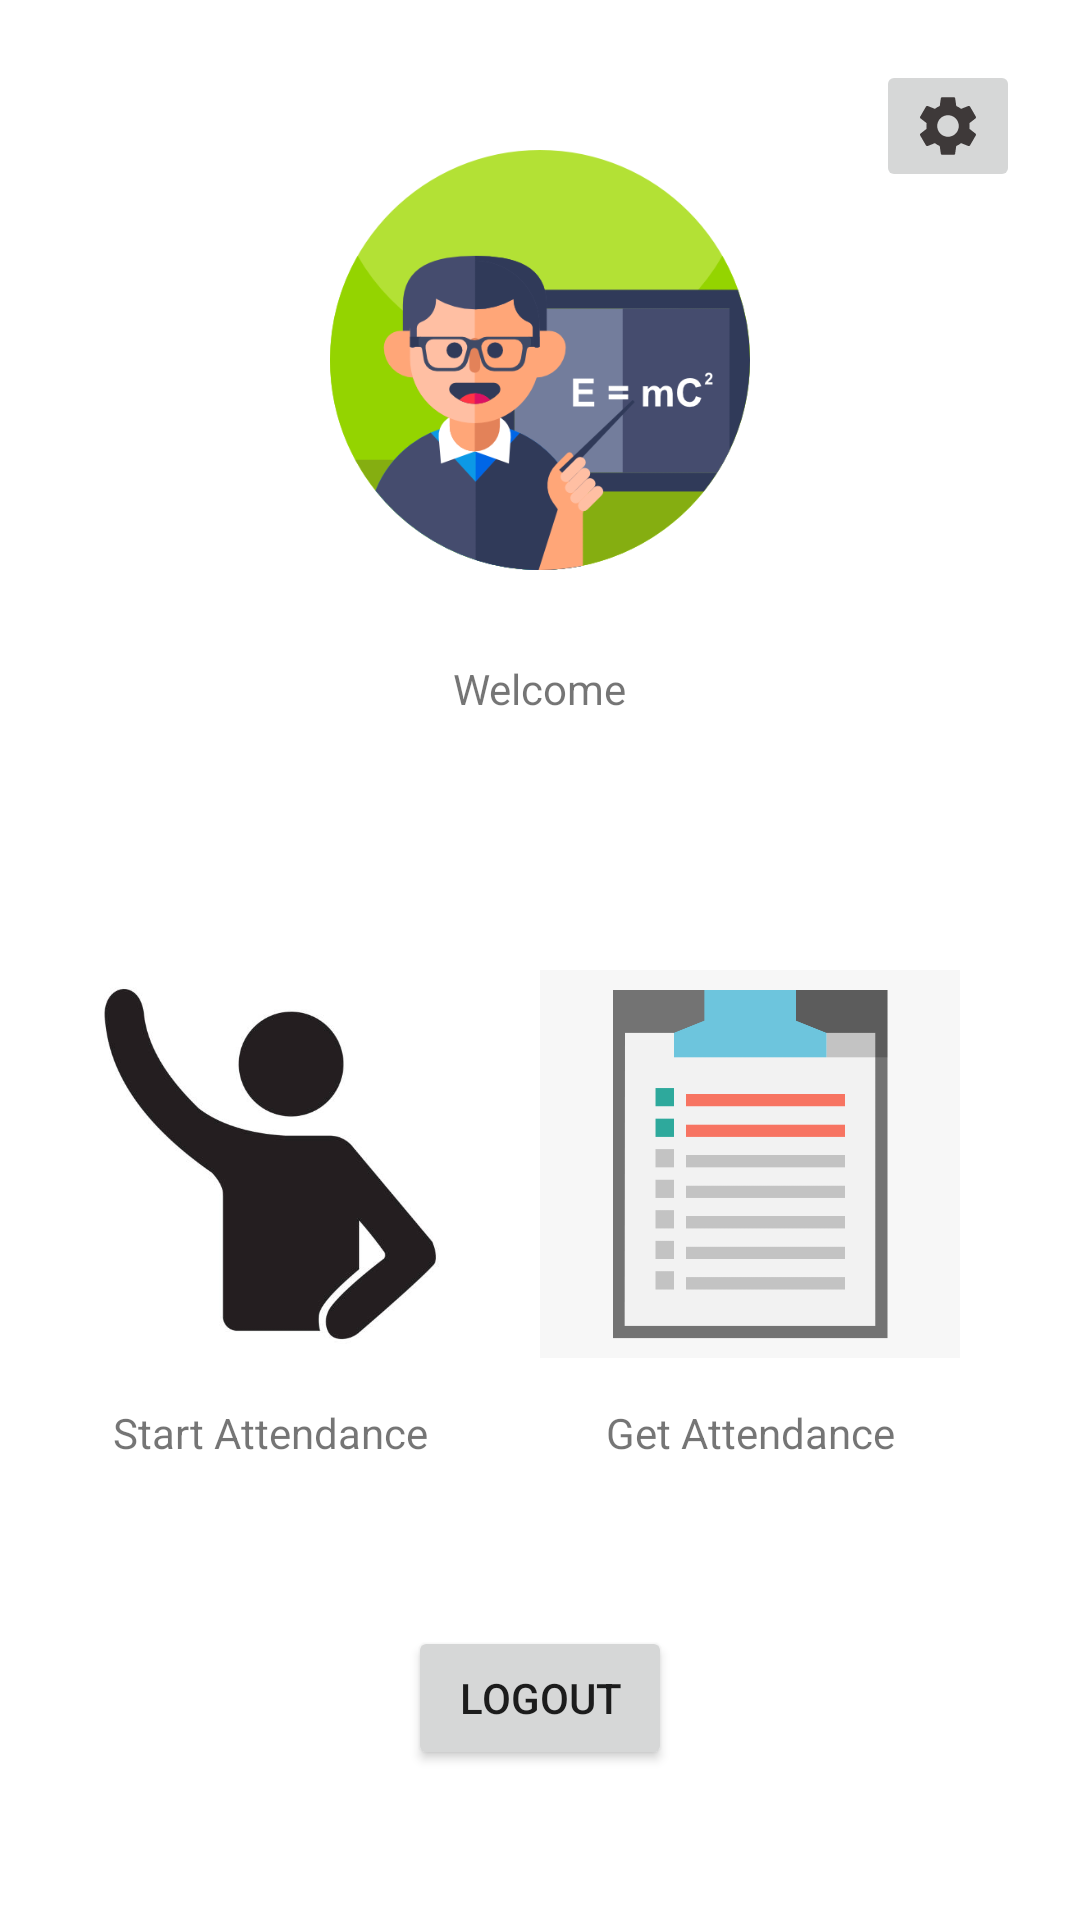

Point at icon controls on the screen. Image size 1080 x 1920, points as point (x, y).
list: point (750, 1164)
settings: point (948, 126)
student raise hand: point (270, 1164)
